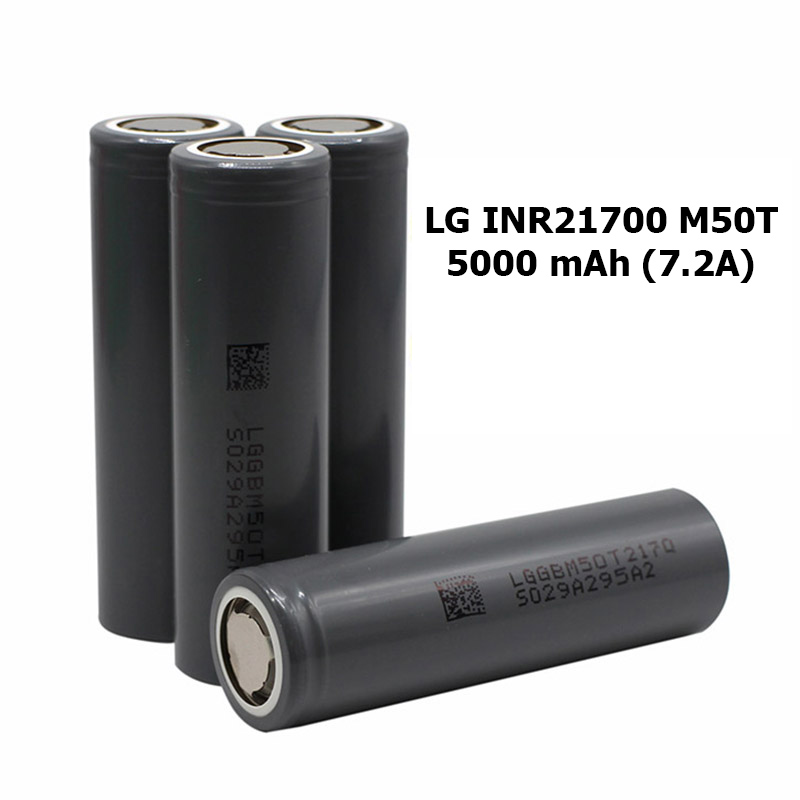Battery: (205, 482, 735, 740), (162, 128, 333, 686), (251, 108, 413, 545), (83, 107, 179, 644)
